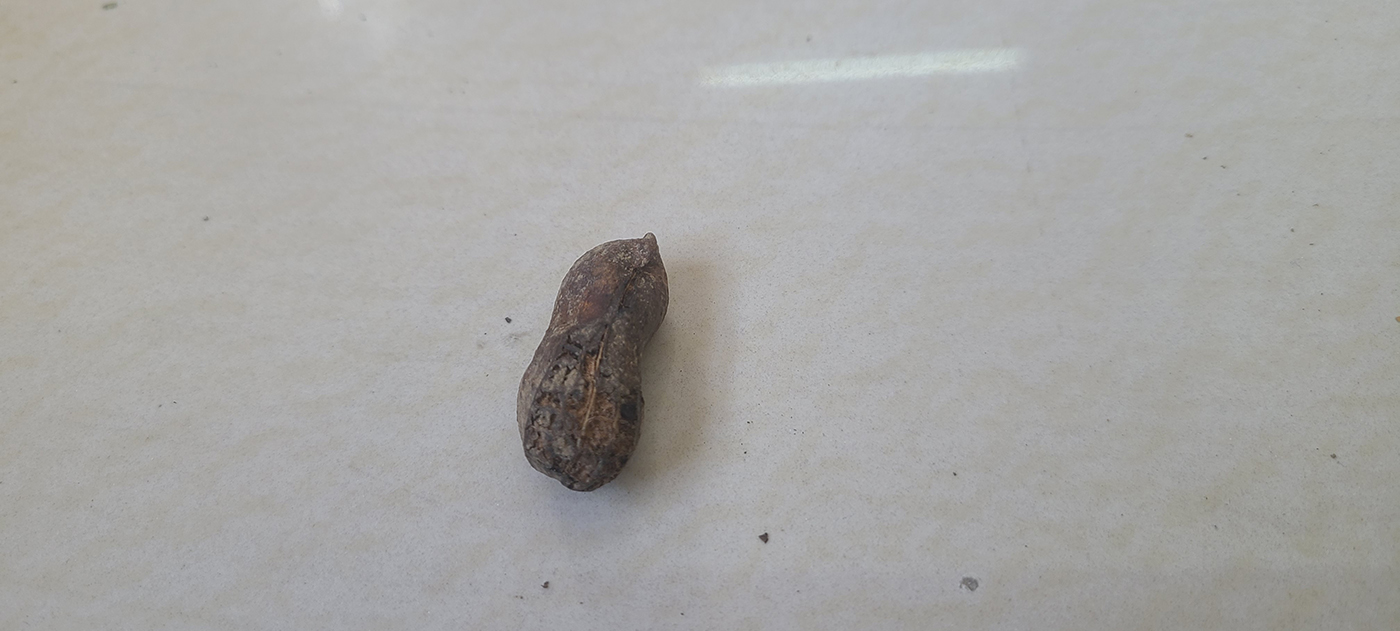l: (510, 229, 671, 493)
